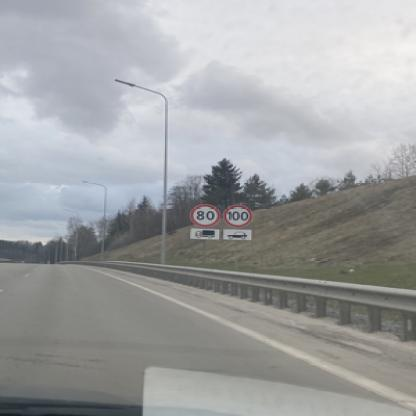speedlimit: (188, 202, 218, 225), (222, 203, 251, 224)
